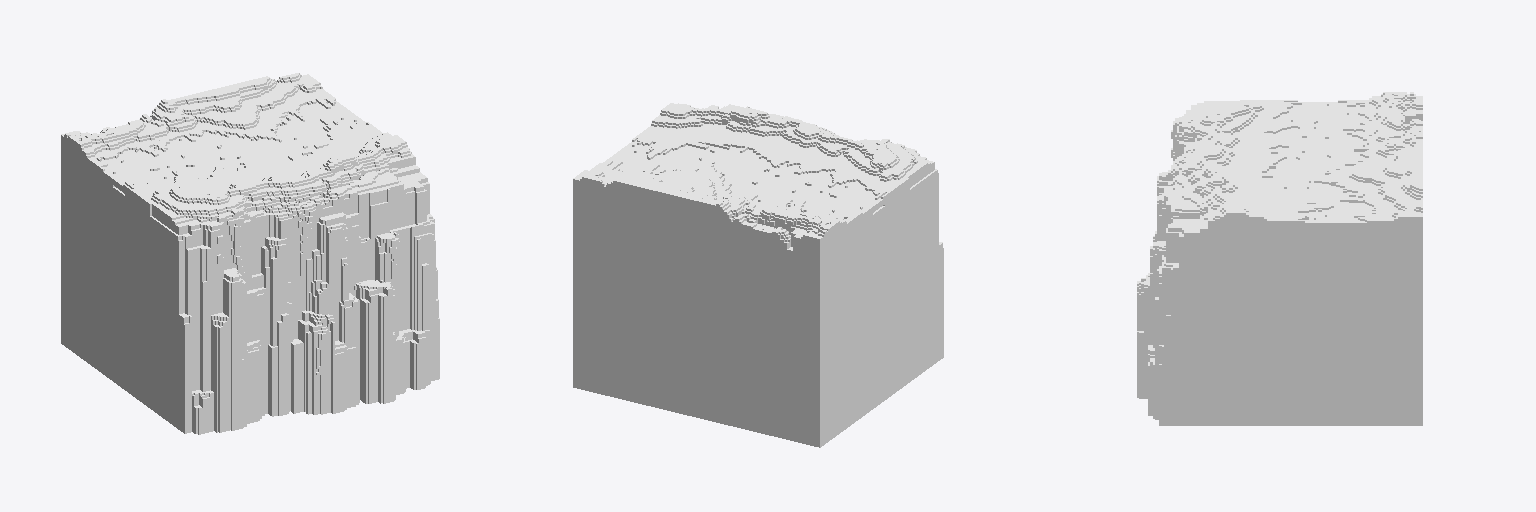
The model's file is factory4.1-10.obj.
3 views of the same model, side by side, from view 1: azimuth 30°, elevation 25°; view 2: azimuth 150°, elevation 25°; view 3: azimuth 270°, elevation 25° (orthographic).
Parts seen in each view (by area): view 1: object 1; view 2: object 1; view 3: object 1.
Boxes of the visible parts, <box> form: object 1: <box>61,73,439,434</box>; object 1: <box>573,103,943,447</box>; object 1: <box>1137,92,1422,425</box>.
Bounding box in the file's own units: 25.6 × 21.6 × 25.6.